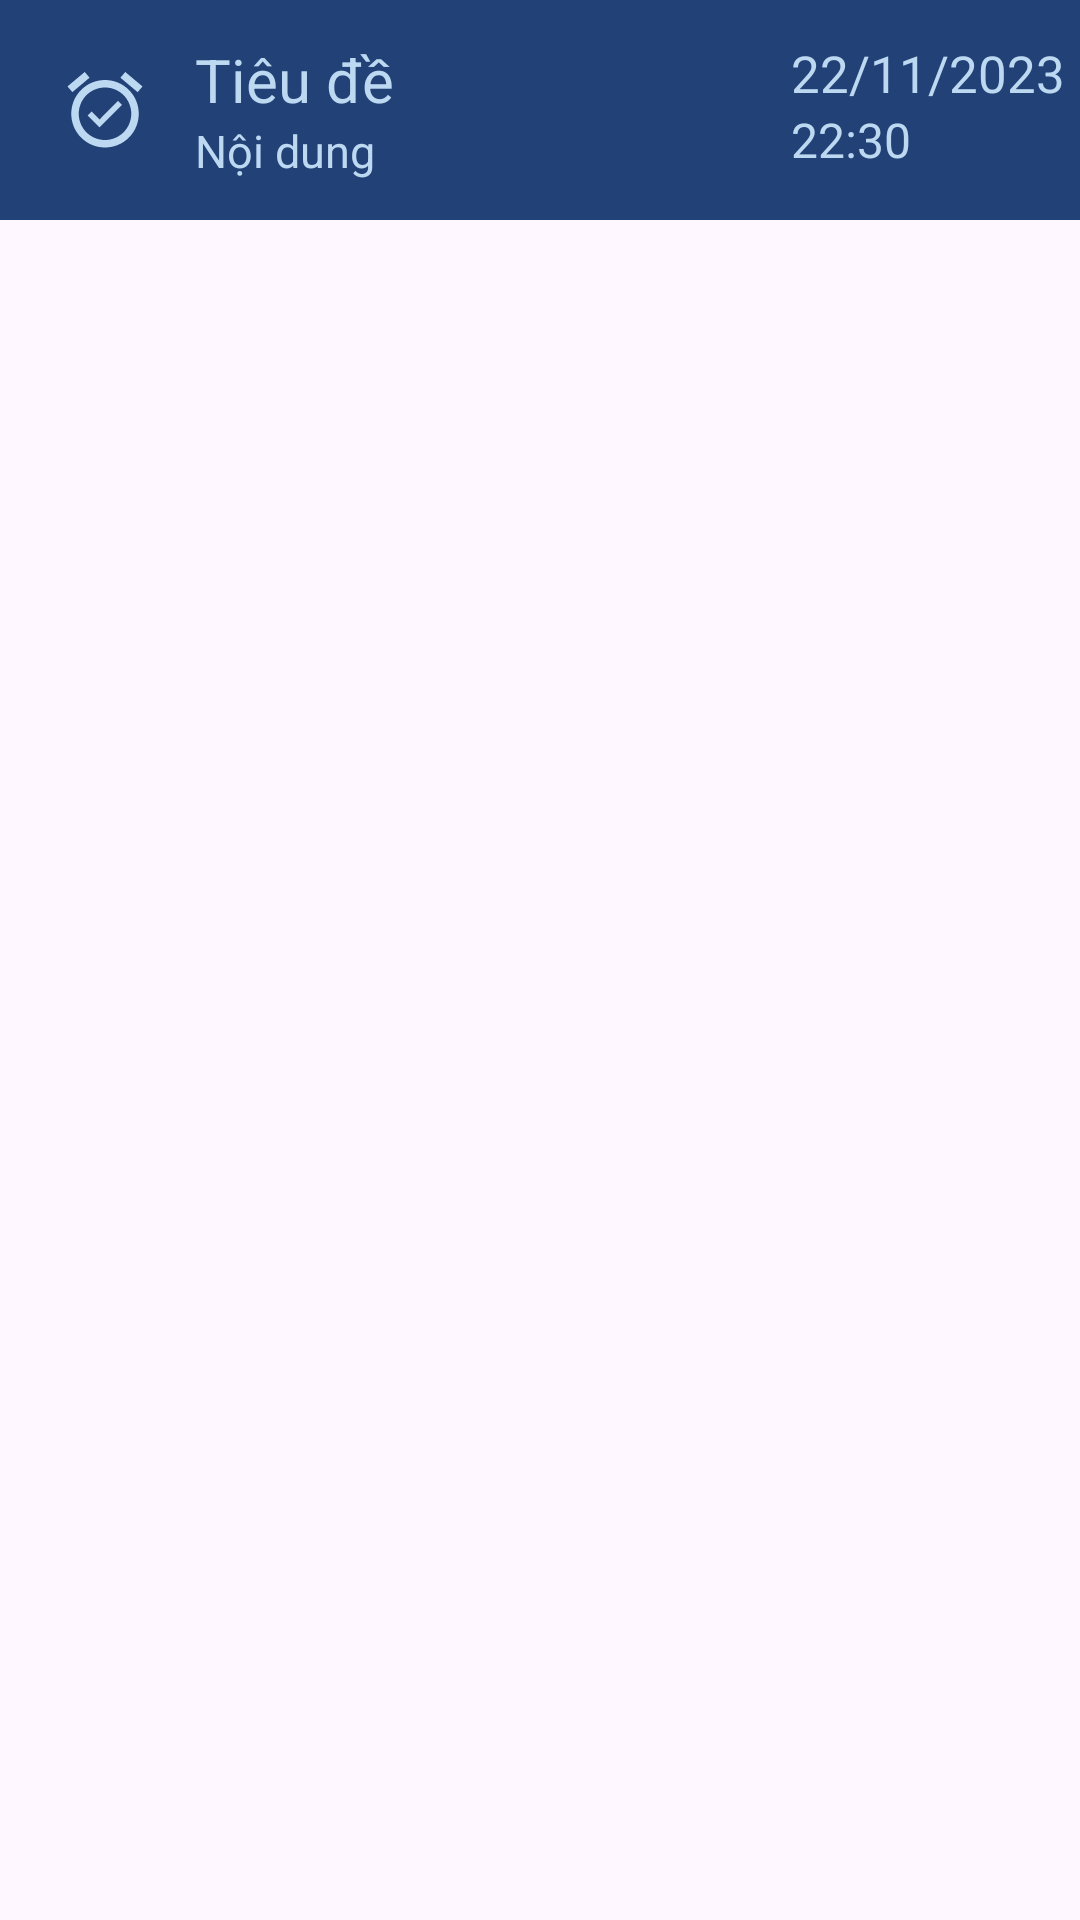

Screen size 1080x1920. Icon name, then its center in pixels as (x,y):
alarm: (105,110)
